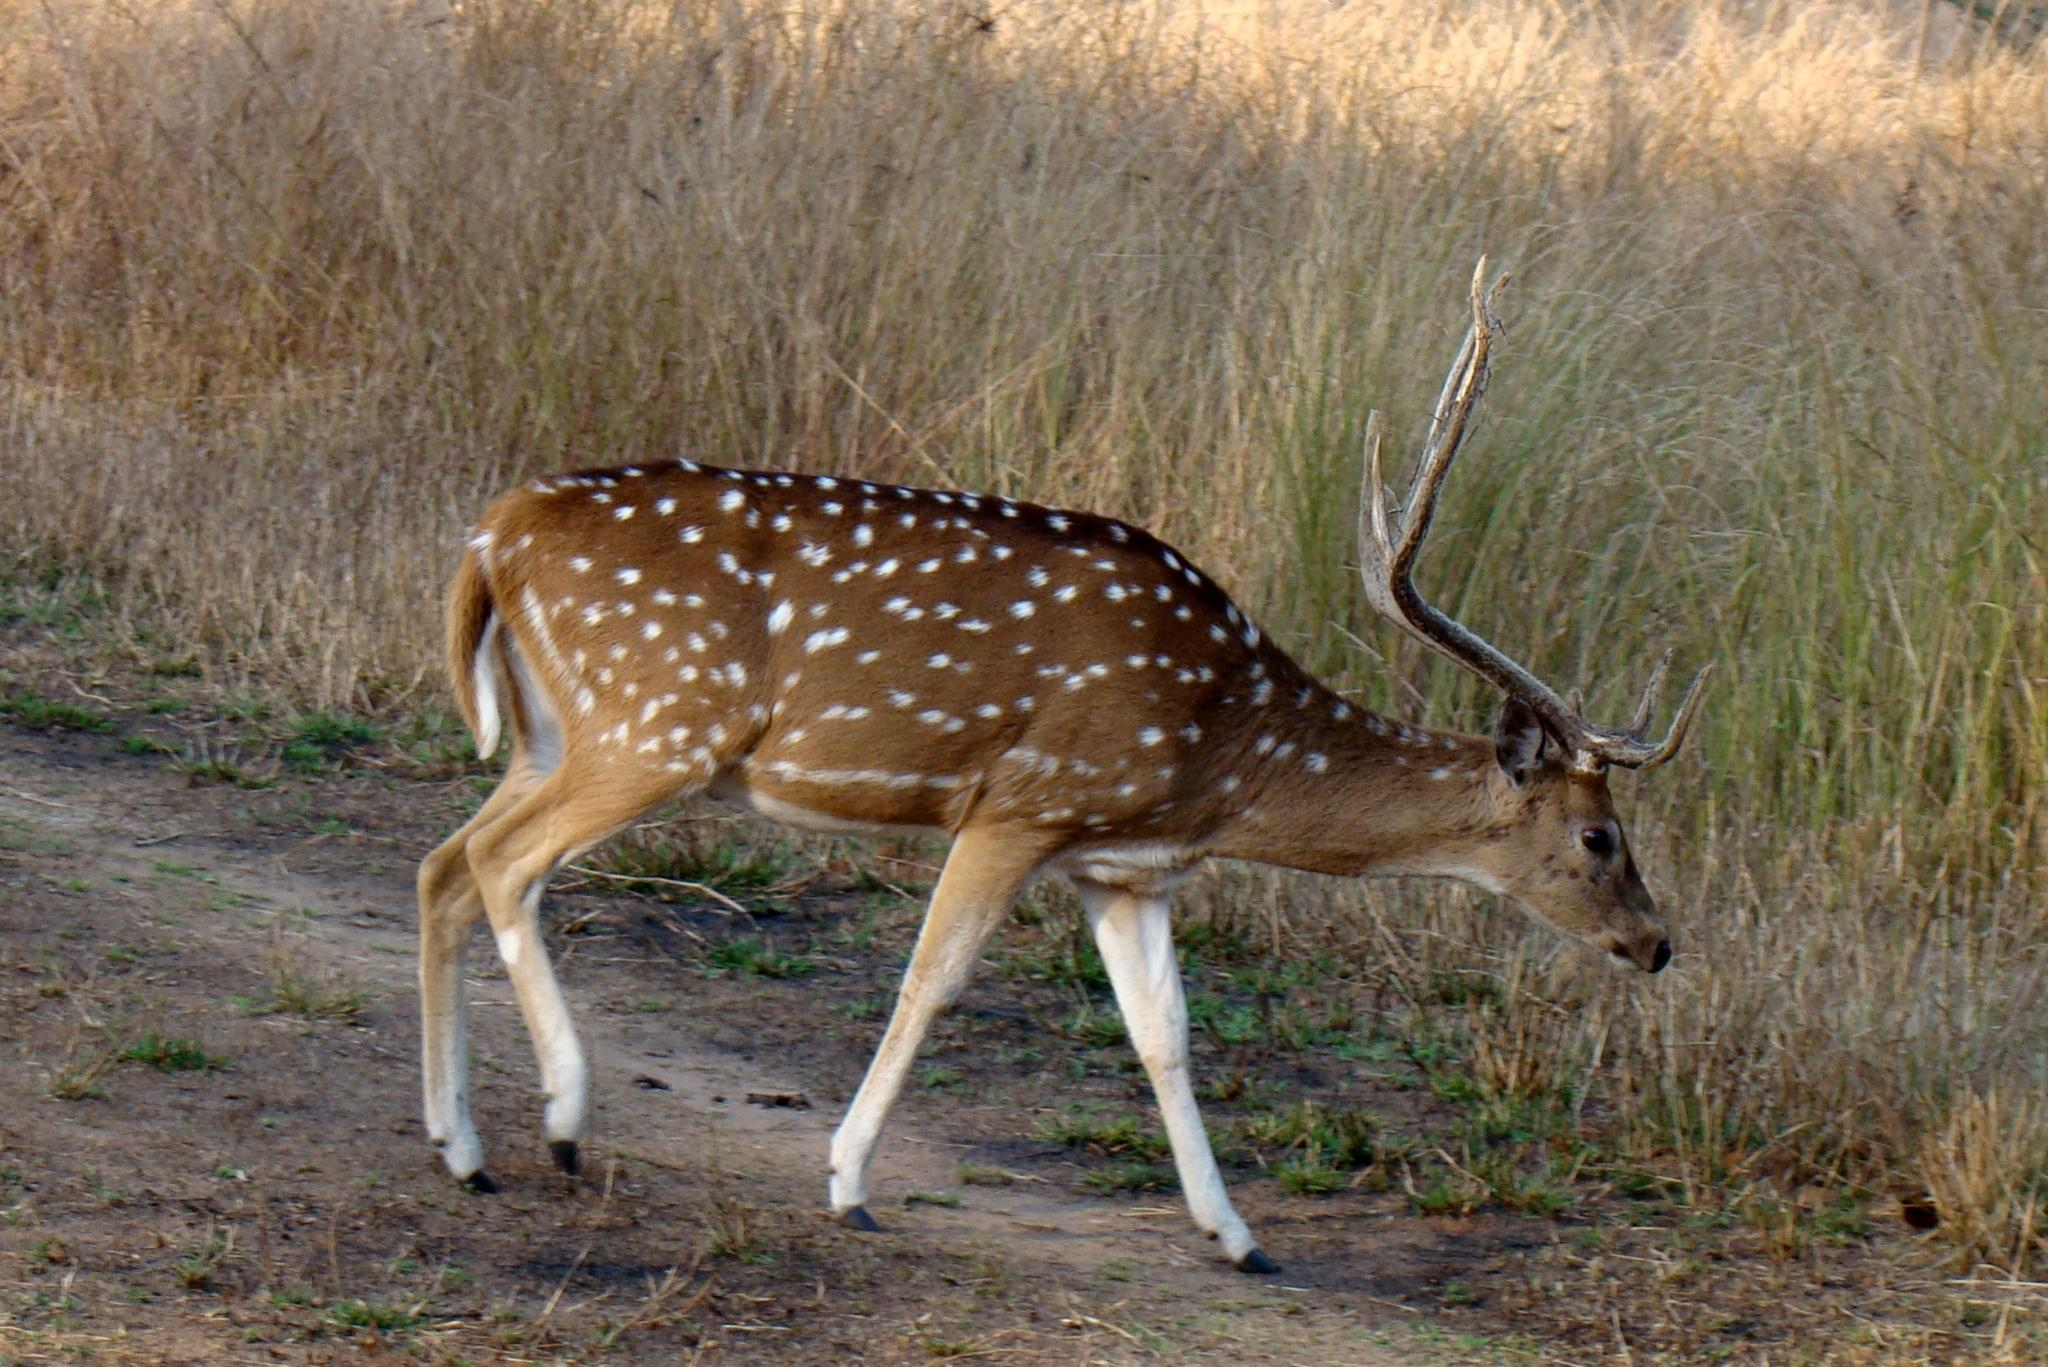Deer: (418, 258, 1706, 1269)
